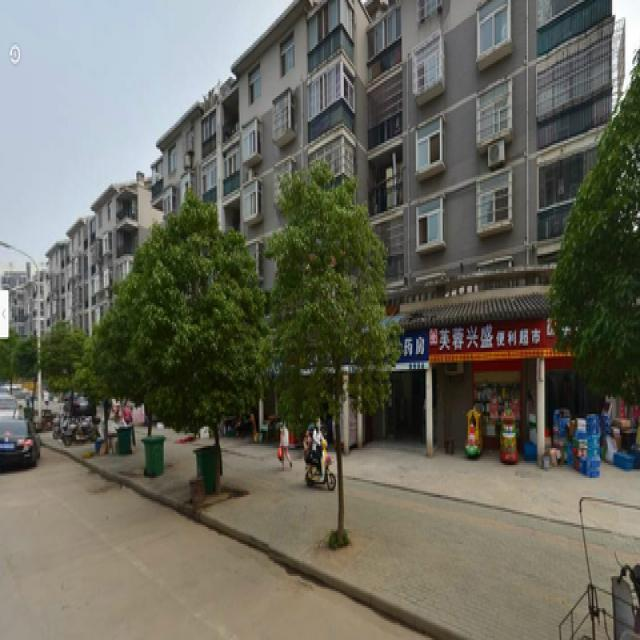cinn: (286, 173, 374, 529), (169, 237, 255, 480)
